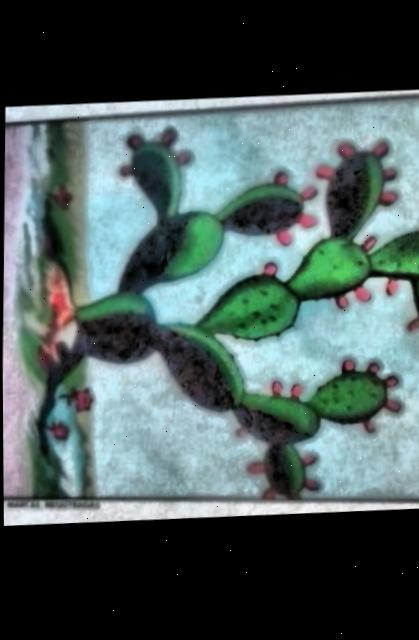El Nopal: (1, 92, 419, 518)
